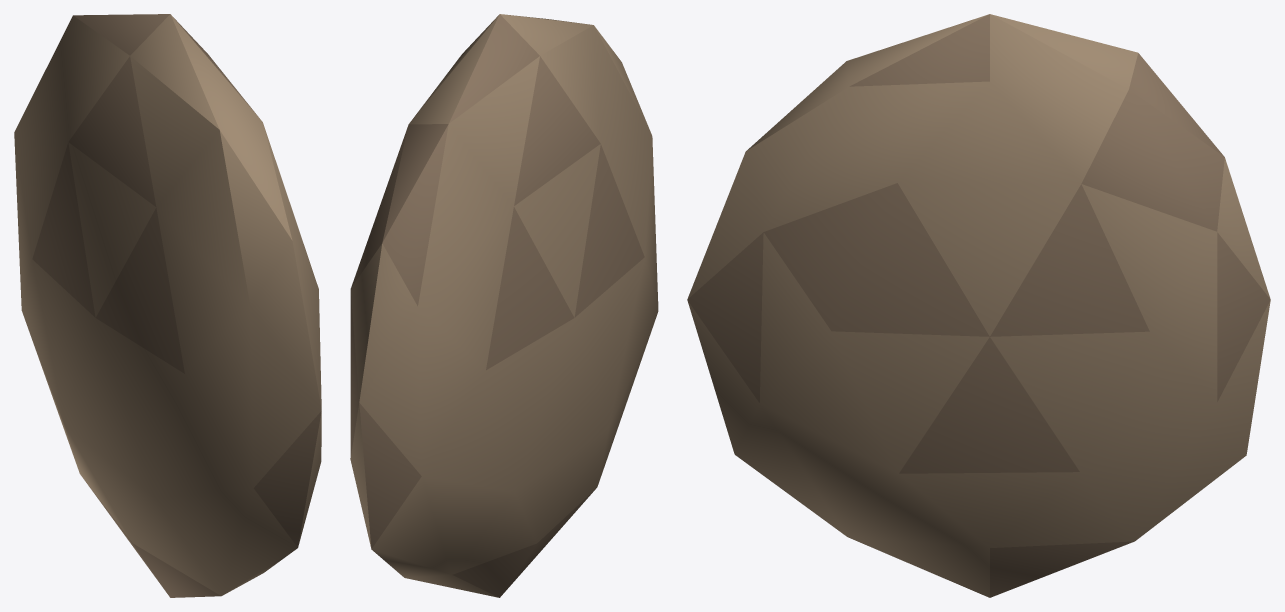
File: owl_wing.glb
The picture shows the model from 3 angles, left to right: view 1: azimuth 30°, elevation 25°; view 2: azimuth 150°, elevation 25°; view 3: azimuth 270°, elevation 25°; orthographic projection.
Visible parts, largest first — view 1: owl_wing; view 2: owl_wing; view 3: owl_wing.
Part boxes in pixels (x1,y1,x2,y2): owl_wing: (14,14,321,597); owl_wing: (350,14,658,597); owl_wing: (687,14,1270,597).
Bounding box in the file's own units: 0.072 × 0.2665 × 0.2413.
